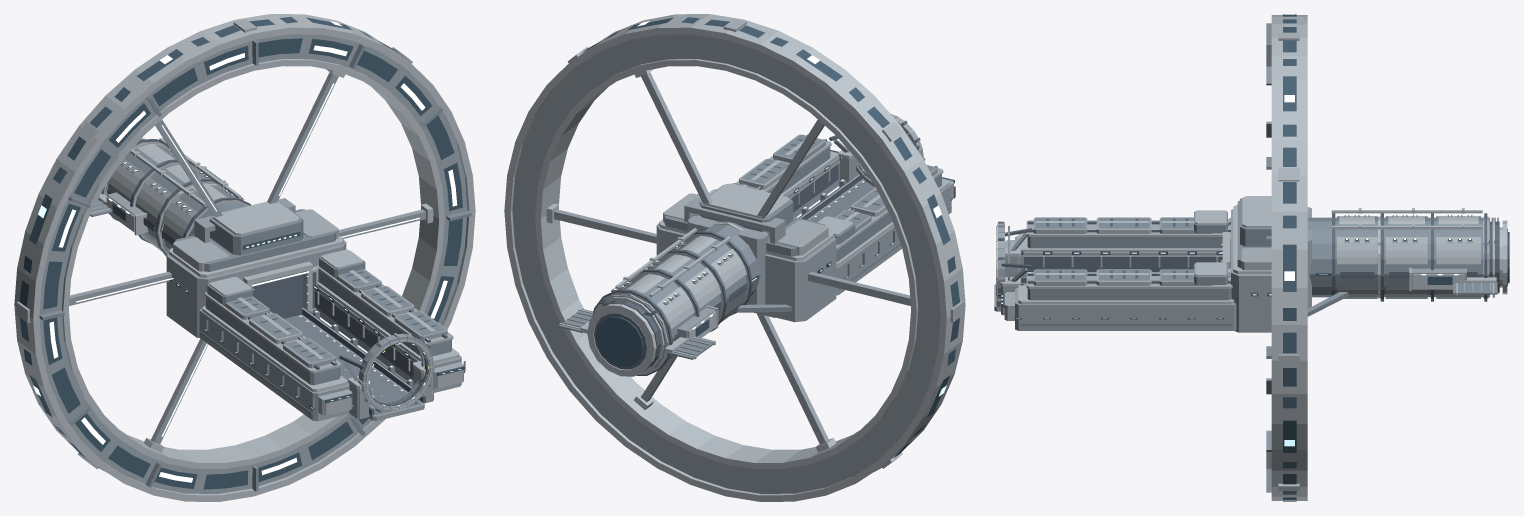
The model's file is titanium_colony_station.glb.
The picture shows the model from 3 angles, left to right: view 1: azimuth 30°, elevation 25°; view 2: azimuth 150°, elevation 25°; view 3: azimuth 270°, elevation 25°; orthographic projection. The views are drawn at different scales.
Parts seen in each view (by area): view 1: HabitatRing_hab_silver, HabitatRing_hab_glass, HabitatRing_hab_titanium, medium, titanium, silver, HabitatSpokes_Titanium, pale, dark, V6_AftModule_SegmentedArmor, HabitatRing_hab_lit, deck (+9 smaller); view 2: HabitatRing_hab_silver, HabitatRing_hab_titanium, titanium, medium, HabitatSpokes_Titanium, silver, HabitatRing_hab_glass, pale, V6_AftModule_SegmentedArmor, glass, V6_AftModule_RearServiceCollar, dark (+10 smaller); view 3: medium, HabitatRing_hab_silver, titanium, silver, V6_AftModule_SegmentedArmor, HabitatRing_hab_glass, pale, dark, V6_AftModule_ServiceConduits, V6_AftModule_BulkheadSeams, HabitatRing_hab_medium, V6_AftModule_UpperPlates (+4 smaller).
Part boxes in pixels (x1,y1,x2,y2): HabitatRing_hab_silver: (14,14,475,501); HabitatRing_hab_glass: (19,17,462,489); HabitatRing_hab_titanium: (39,34,467,493); medium: (107,144,465,414); titanium: (166,240,461,421); silver: (105,143,459,411); HabitatSpokes_Titanium: (69,72,425,444); pale: (173,209,463,415); dark: (234,271,447,415); V6_AftModule_SegmentedArmor: (108,158,231,254); HabitatRing_hab_lit: (33,21,457,482); deck: (284,315,421,415); HabitatRing_hab_silver: (504,14,965,501); HabitatRing_hab_titanium: (512,34,940,493); titanium: (656,114,951,322); medium: (602,134,955,368); HabitatSpokes_Titanium: (554,72,910,444); silver: (594,139,949,372); HabitatRing_hab_glass: (581,17,959,471); pale: (663,141,953,255); V6_AftModule_SegmentedArmor: (617,245,746,362); glass: (596,150,954,366); V6_AftModule_RearServiceCollar: (587,297,664,376); dark: (605,120,937,366); medium: (1008,198,1489,326); HabitatRing_hab_silver: (1271,15,1307,500); titanium: (994,207,1311,332); silver: (996,196,1502,306); V6_AftModule_SegmentedArmor: (1337,216,1480,298); HabitatRing_hab_glass: (1283,14,1296,501); pale: (998,217,1271,320); dark: (996,218,1499,307); V6_AftModule_ServiceConduits: (1331,208,1482,229); V6_AftModule_BulkheadSeams: (1332,213,1487,301); HabitatRing_hab_medium: (1266,23,1271,492); V6_AftModule_UpperPlates: (1339,216,1478,224).
Bounding box in the file's own units: 30.2 × 30.2 × 31.72.
